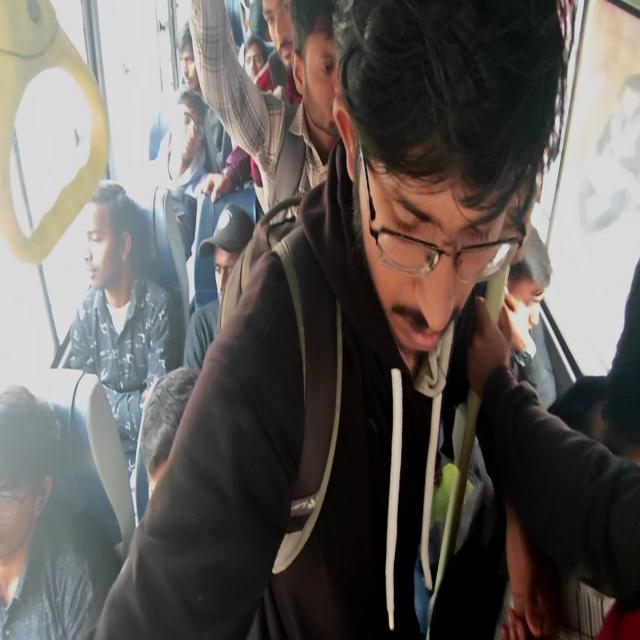person: (129, 367, 197, 586), (559, 308, 640, 454), (425, 491, 505, 638), (0, 386, 61, 571), (437, 288, 497, 468), (503, 226, 560, 412), (80, 182, 140, 300), (290, 0, 342, 136), (150, 90, 211, 204), (206, 203, 253, 313), (498, 180, 538, 276), (183, 300, 219, 373), (220, 142, 253, 195), (177, 88, 208, 129), (243, 34, 270, 80), (247, 1, 272, 45), (177, 22, 195, 60), (286, 66, 302, 105)
